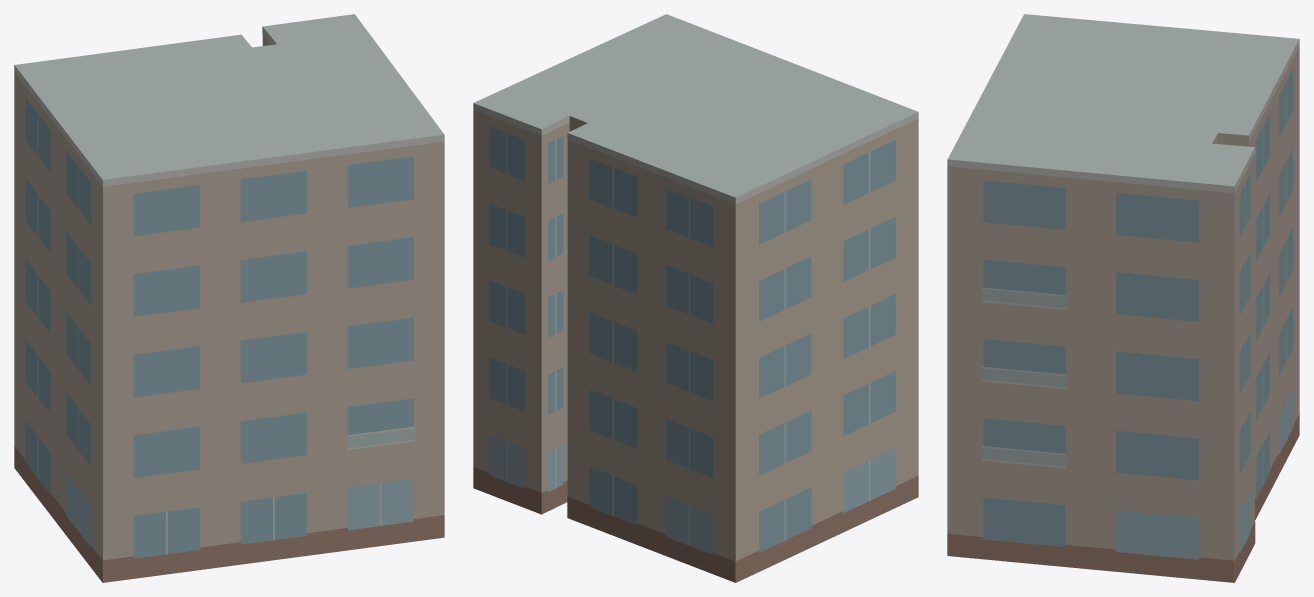
File: survey-upis-32860675.glb
3 renders of one model, left to right at view 1: azimuth 30°, elevation 25°; view 2: azimuth 150°, elevation 25°; view 3: azimuth 270°, elevation 25°, orthographic. The views are drawn at different scales.
Visible parts, largest first — view 1: survey-upis-32860675.tmp; view 2: survey-upis-32860675.tmp; view 3: survey-upis-32860675.tmp.
Boxes of the visible parts, x1=… form: survey-upis-32860675.tmp: x1=14, y1=14, x2=444, y2=582; survey-upis-32860675.tmp: x1=473, y1=14, x2=918, y2=582; survey-upis-32860675.tmp: x1=947, y1=14, x2=1299, y2=582.
Size of the model in its own units: 13.25 by 14.2 by 11.44.
